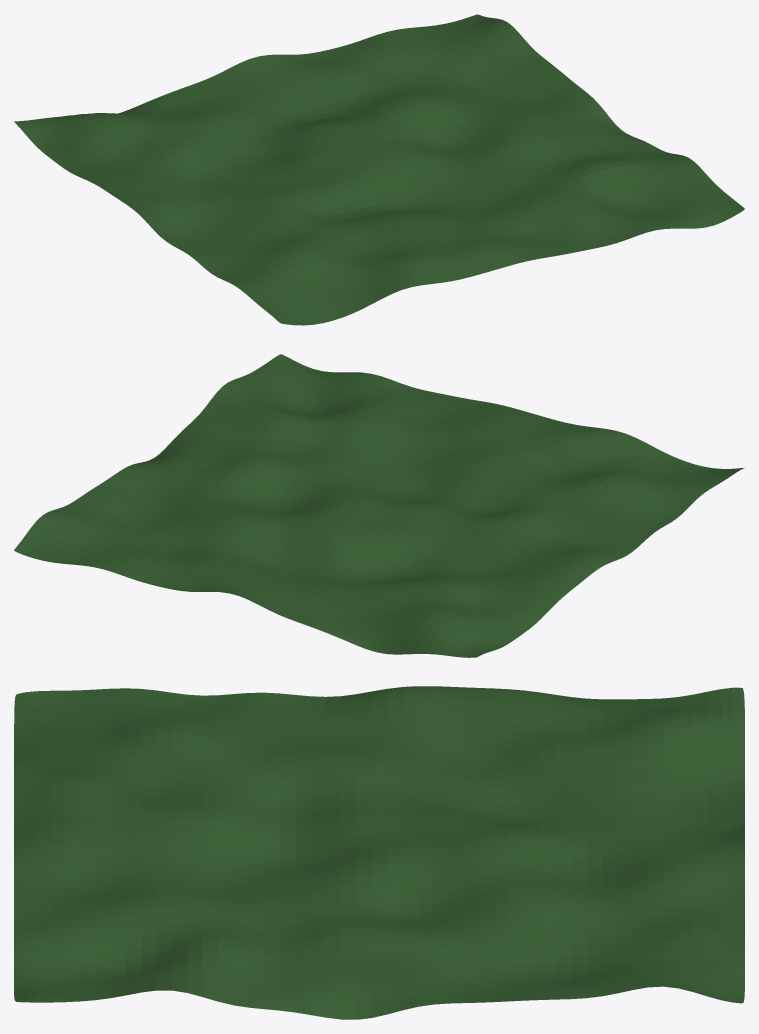
The model's file is terrain.glb.
3 renders of one model, top to bottom at view 1: azimuth 30°, elevation 25°; view 2: azimuth 150°, elevation 25°; view 3: azimuth 270°, elevation 25°, orthographic. The views are drawn at different scales.
Visible parts, largest first — view 1: THREEJS_EXPORT_TEMP; view 2: THREEJS_EXPORT_TEMP; view 3: THREEJS_EXPORT_TEMP.
Boxes of the visible parts, bbox=[...] form: THREEJS_EXPORT_TEMP: bbox=[14, 14, 744, 325]; THREEJS_EXPORT_TEMP: bbox=[14, 354, 744, 657]; THREEJS_EXPORT_TEMP: bbox=[14, 686, 744, 1019].
Size of the model in its own units: 18.71 by 0.9722 by 18.67.
